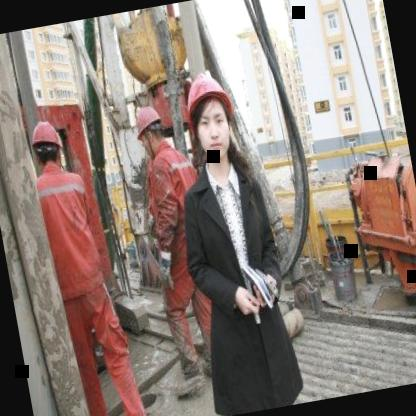helmet: (176, 62, 246, 168), (26, 118, 66, 176), (129, 101, 169, 158)
